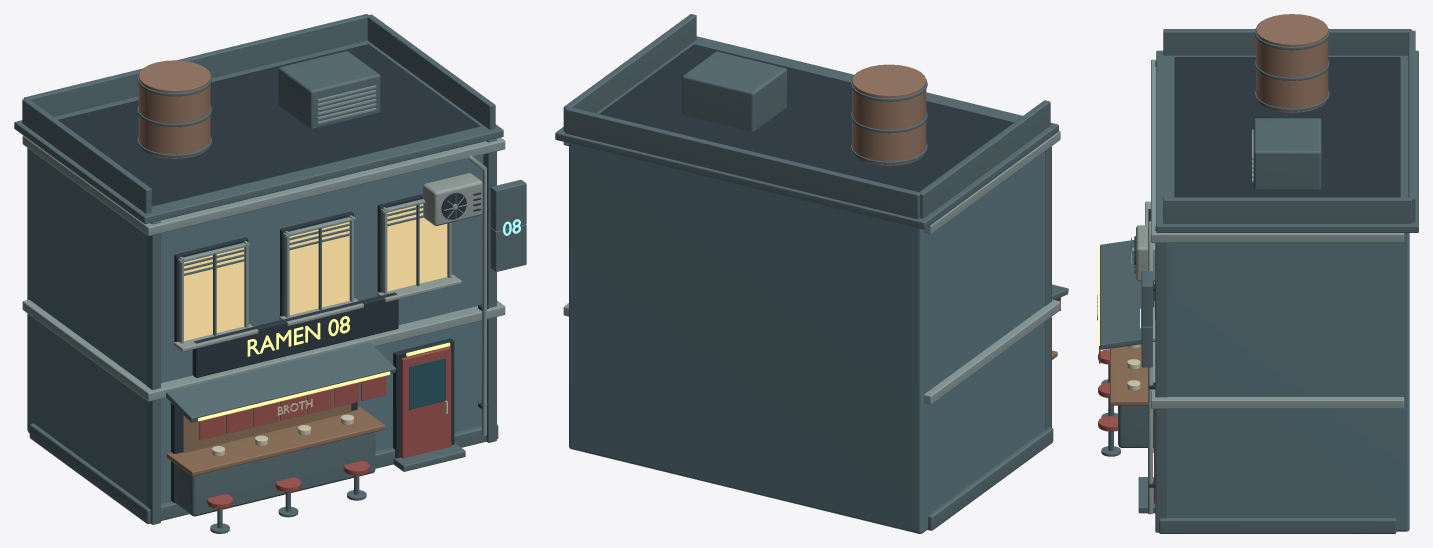
File: noodle_corner.glb
The picture shows the model from 3 angles, left to right: view 1: azimuth 30°, elevation 25°; view 2: azimuth 150°, elevation 25°; view 3: azimuth 270°, elevation 25°; orthographic projection. The views are drawn at different scales.
Parts seen in each view (by area): view 1: Steel, Blue, Ink, Edge, WindowWarm, Red, Wood, Rust, Plaster, Amber, Glass, Cream; view 2: Blue, Steel, Ink, Rust, Edge; view 3: Blue, Steel, Ink, Edge, Rust, Wood, Plaster, Red.
Part boxes in pixels (x1,y1,x2,y2): Steel: (14,14,526,533); Blue: (27,148,483,505); Ink: (58,44,488,502); Edge: (22,85,505,435); WindowWarm: (184,204,447,340); Red: (199,347,451,508); Wood: (166,388,385,476); Rust: (138,60,210,158); Plaster: (174,173,482,351); Amber: (198,316,450,420); Glass: (409,358,445,409); Cream: (211,399,447,456); Blue: (569,143,1044,533); Steel: (555,14,1068,530); Ink: (599,44,1013,191); Rust: (852,64,926,165); Edge: (563,131,1060,404); Blue: (1168,233,1409,531); Steel: (1100,27,1418,533); Ink: (1134,57,1400,487); Edge: (1131,59,1404,514); Rust: (1256,14,1328,112); Wood: (1110,344,1147,405); Plaster: (1136,201,1155,341); Red: (1098,346,1155,503).
Bounding box in the file's own units: 9.6 × 9.25 × 7.11.
